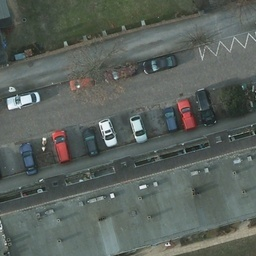car: (195, 88, 219, 128), (51, 130, 70, 164), (7, 88, 38, 108), (176, 100, 197, 129), (19, 143, 37, 175), (129, 114, 147, 144), (146, 53, 177, 70), (98, 118, 116, 147), (82, 125, 99, 155), (162, 102, 178, 131), (109, 63, 135, 79), (69, 75, 93, 92), (0, 152, 2, 180)
